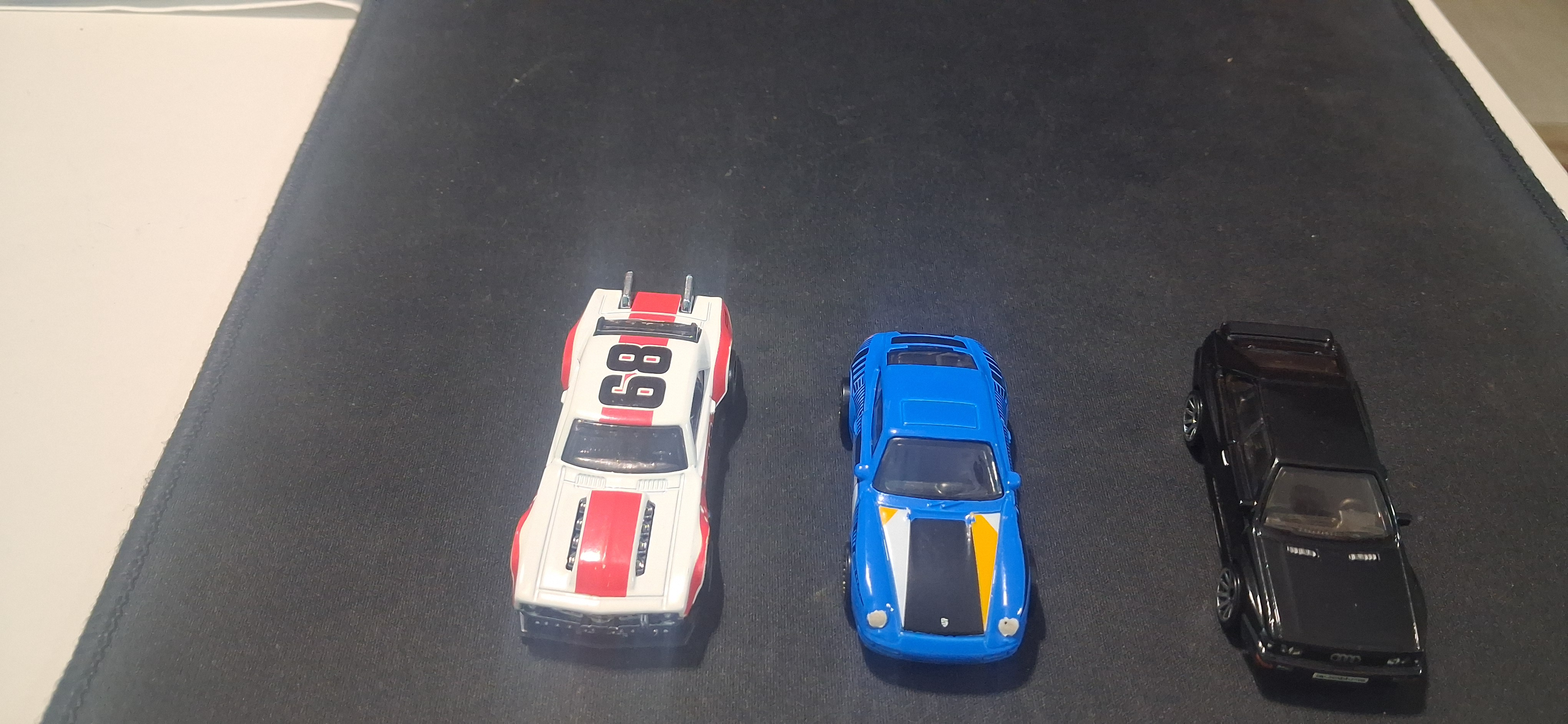Audi_Quattro: (1134, 292, 1459, 712)
Camaro: (477, 229, 753, 695)
Porsche_Carrera: (804, 282, 1056, 697)
